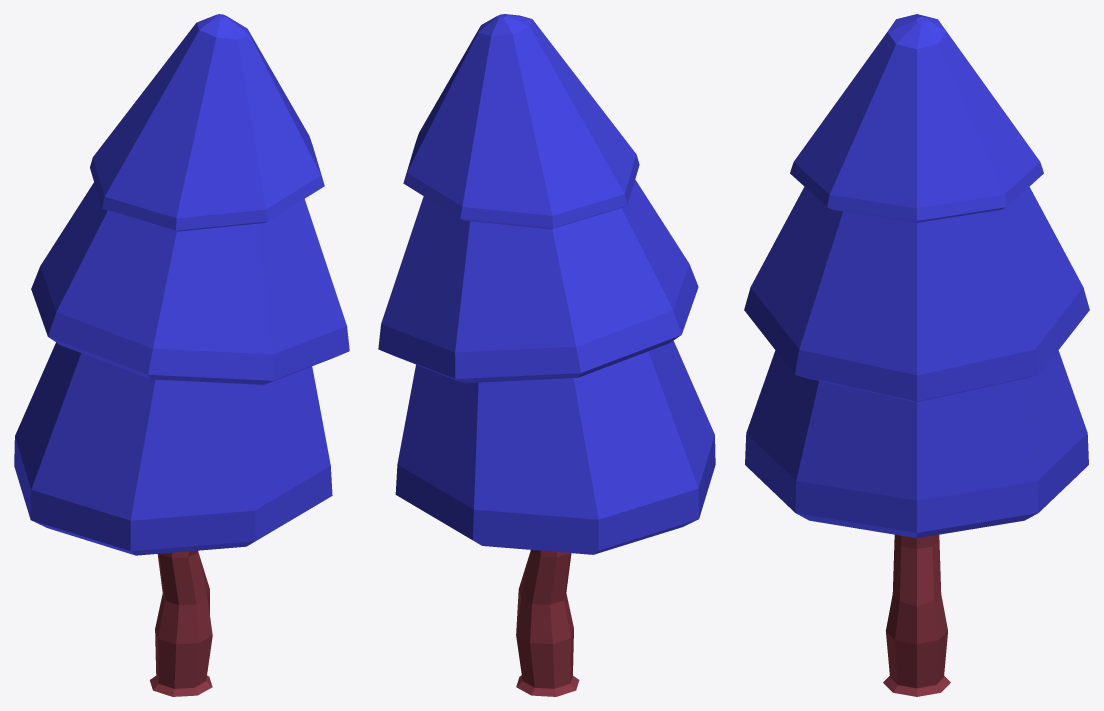
The model's file is Tree001_V1.fbx.
3 renders of one model, left to right at view 1: azimuth 30°, elevation 25°; view 2: azimuth 150°, elevation 25°; view 3: azimuth 270°, elevation 25°, orthographic. The views are drawn at different scales.
Parts seen in each view (by area): view 1: Tree001.001; view 2: Tree001.001; view 3: Tree001.001.
Part boxes in pixels (bbox=[...]): Tree001.001: bbox=[14, 14, 349, 696]; Tree001.001: bbox=[378, 14, 715, 696]; Tree001.001: bbox=[744, 14, 1089, 696].
Size of the model in its own units: 2.68 by 5.56 by 2.54.
